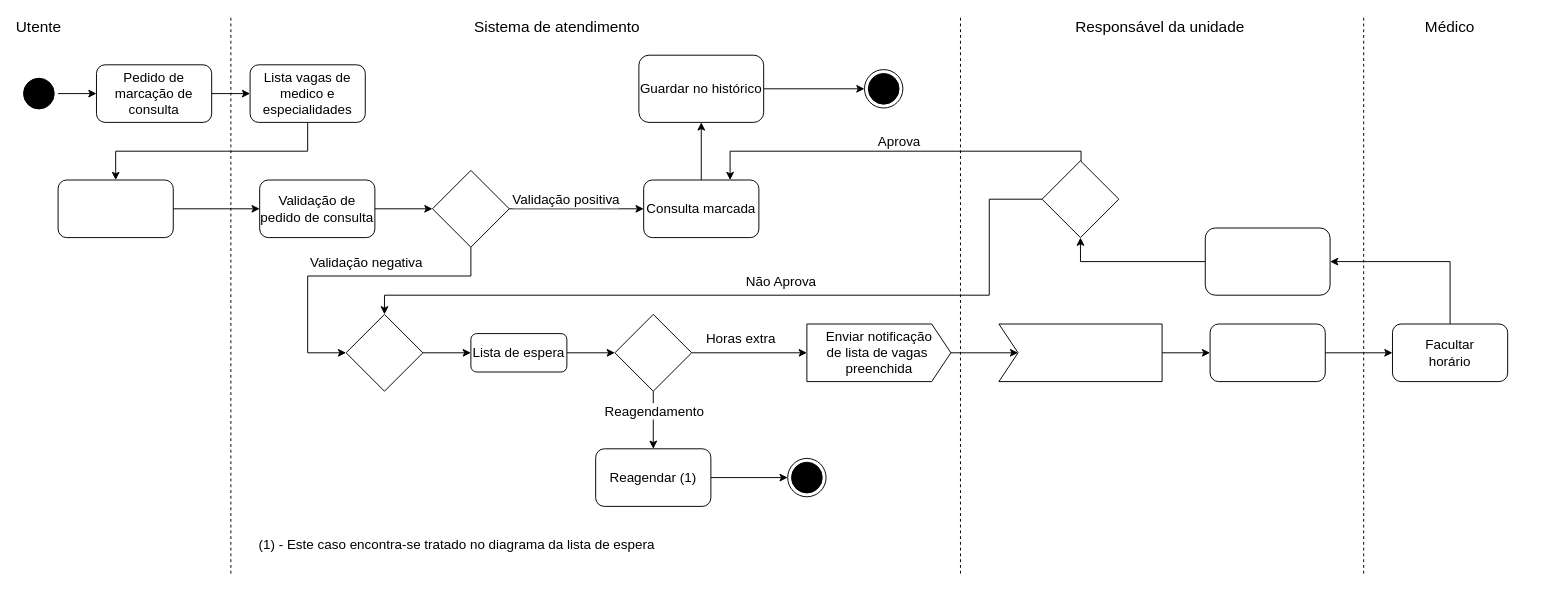
Image size: 1563x591. Some labels were removed from this diagram. Each missing label, with the centre of its shape:
"Aprovação de uma consulta em horas extra" belongs at (1267,261).
"Averiguar disponibilidade do médico" belongs at (1267,352).
"Escolher vaga" belongs at (115,208).
"Receber notificação de lista de vagas preenchida" belongs at (1080,352).
